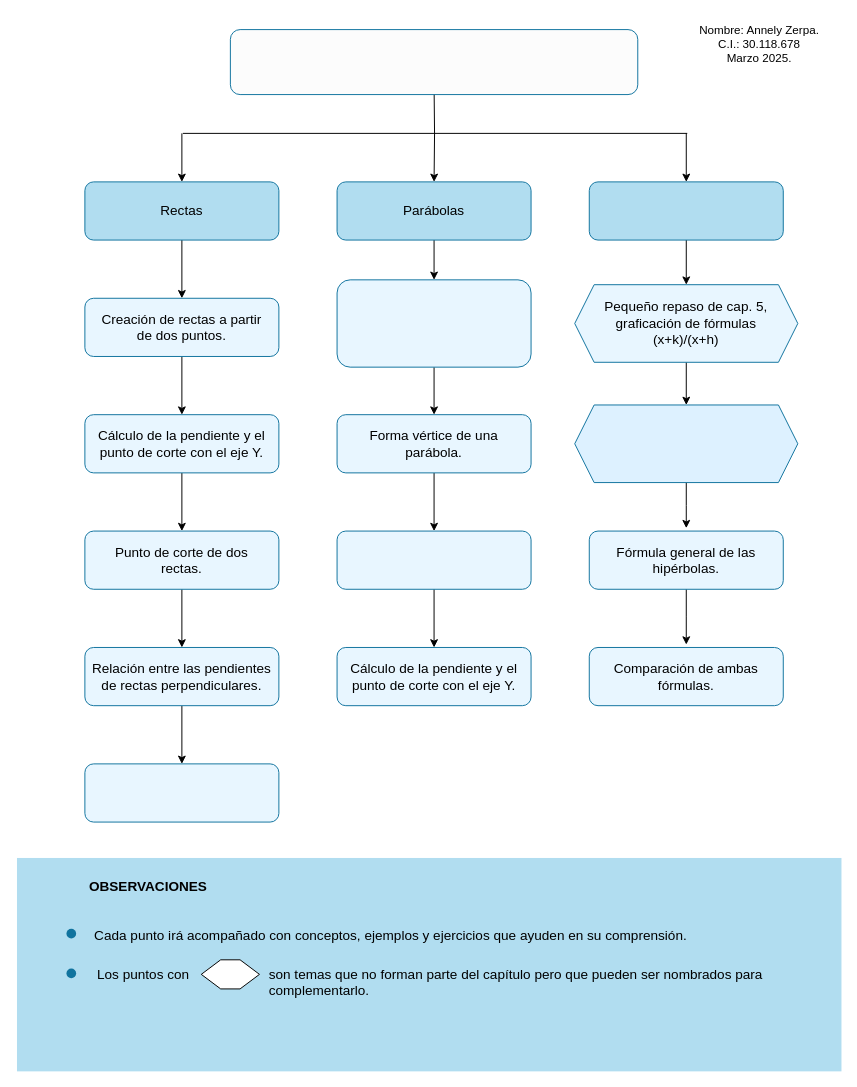
The diagram is 857 pixels wide and 1087 high, and some of its shapes have lost their labels. The shapes that lost their labels are listed below. From the top down, each one's centre as x and y in pixels, then its label:
At pixel 433 62: "Esquema del Capitulo 6 Métodos de Graficación - Pedro Alson".
At pixel 685 210: "Hipérbolas".
At pixel 433 323: "Creación de parábolas a partir de la multiplicación de dos rectas.".
At pixel 686 443: "Repaso de asíntotas verticales y horizontales.".
At pixel 433 559: "Forma raíz de una parábola.".
At pixel 181 792: "Distancia entre dos puntos del plano.".
